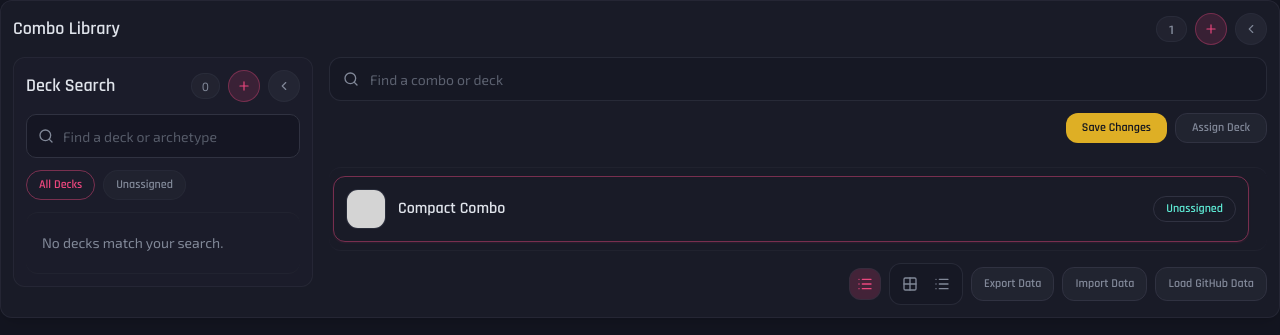
Test: ComboLibrary view toggle › defaults to a searchable thumbnail list with active selection and collapse controls
Later steps or results of the test are not shown.
Click the button "Compact Combo". click: {"x": 366, "y": 209}
box: [346,189,989,229]
Type "missing" into the field named "Search combos". click: {"x": 798, "y": 79}
box: [329,57,1267,101]
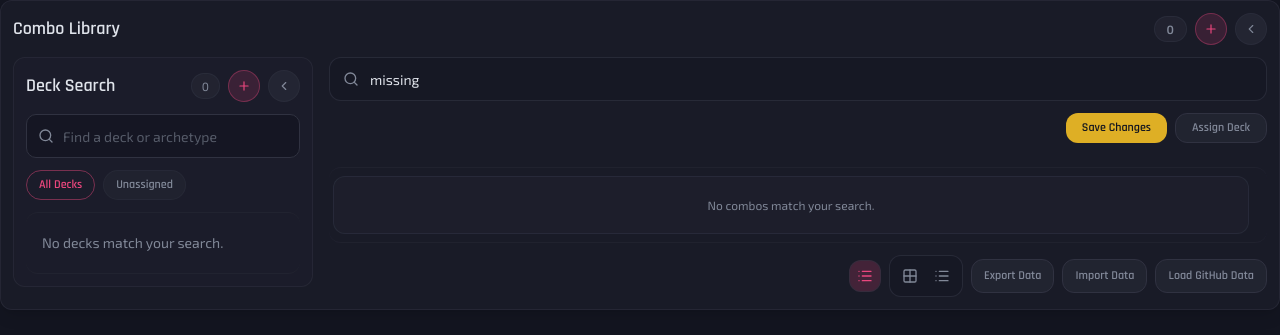
expect the text "No combos match your search." is shown: met, box [333,176,1249,234]
Replace the text in the field named "Search combos" with "Unassigned". click: {"x": 798, "y": 79}
box: [329,57,1267,101]
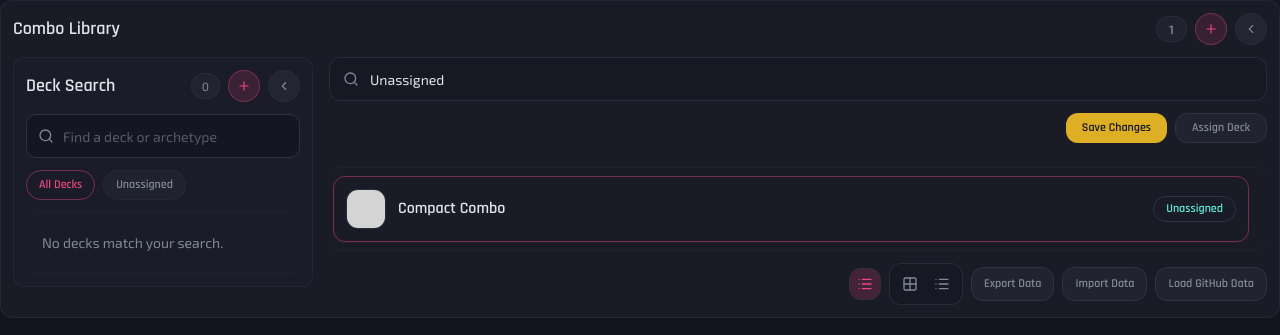
expect the button "Compact Combo" is shown: met, box [346,189,989,229]
